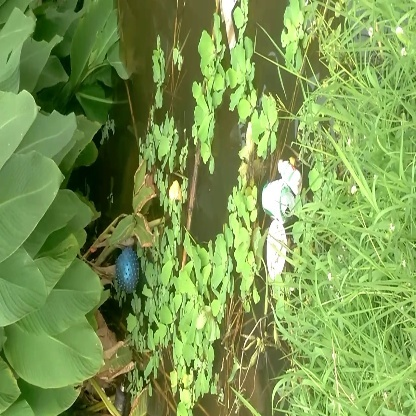ball: (111, 241, 152, 301)
bottle: (254, 178, 312, 226)
